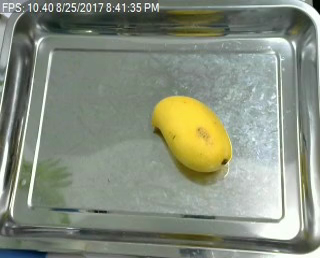Mango: (149, 91, 237, 178)
